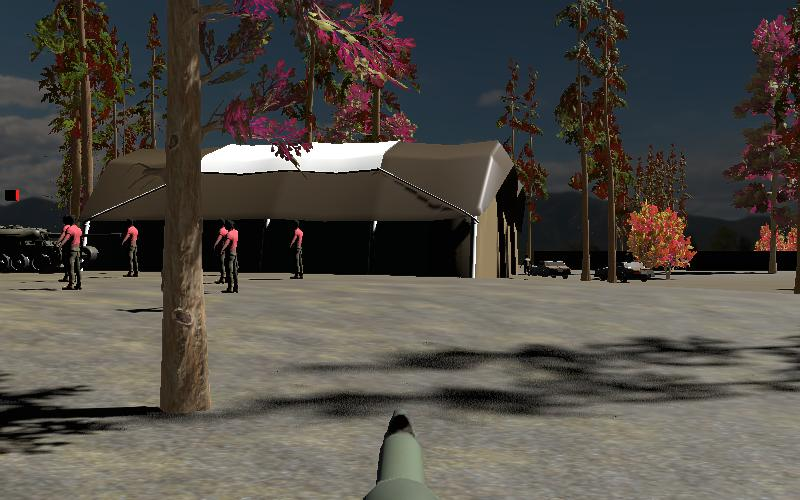Human: (56, 212, 87, 293), (220, 217, 243, 294), (211, 217, 234, 286), (120, 216, 144, 280), (212, 217, 232, 283), (287, 218, 307, 281)
Tank: (0, 219, 97, 276)
car: (596, 260, 653, 284), (540, 258, 572, 279)
